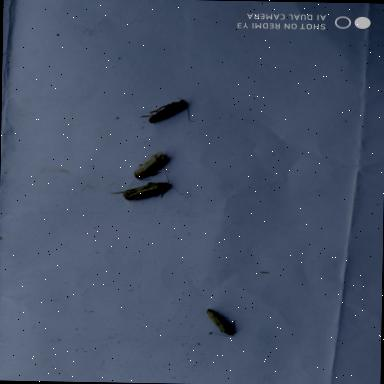pbw: (116, 164, 190, 206), (140, 96, 198, 130), (197, 304, 241, 344), (128, 150, 172, 184)
